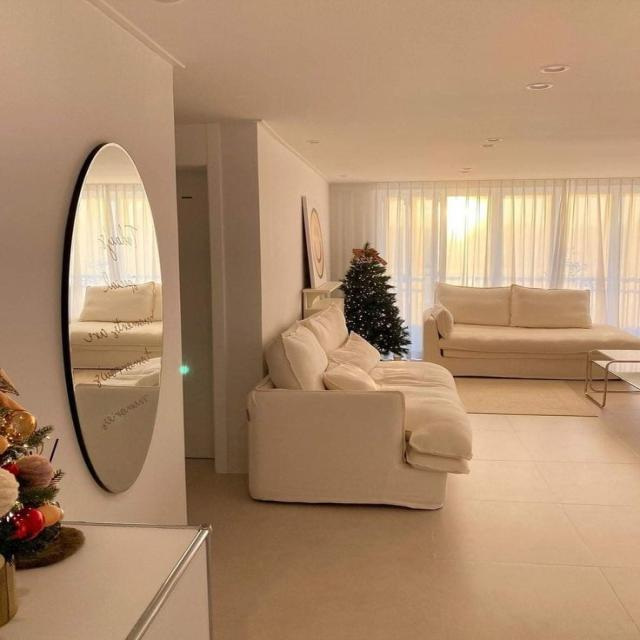obstacle: (245, 303, 472, 510), (0, 520, 212, 639), (422, 281, 639, 380)
